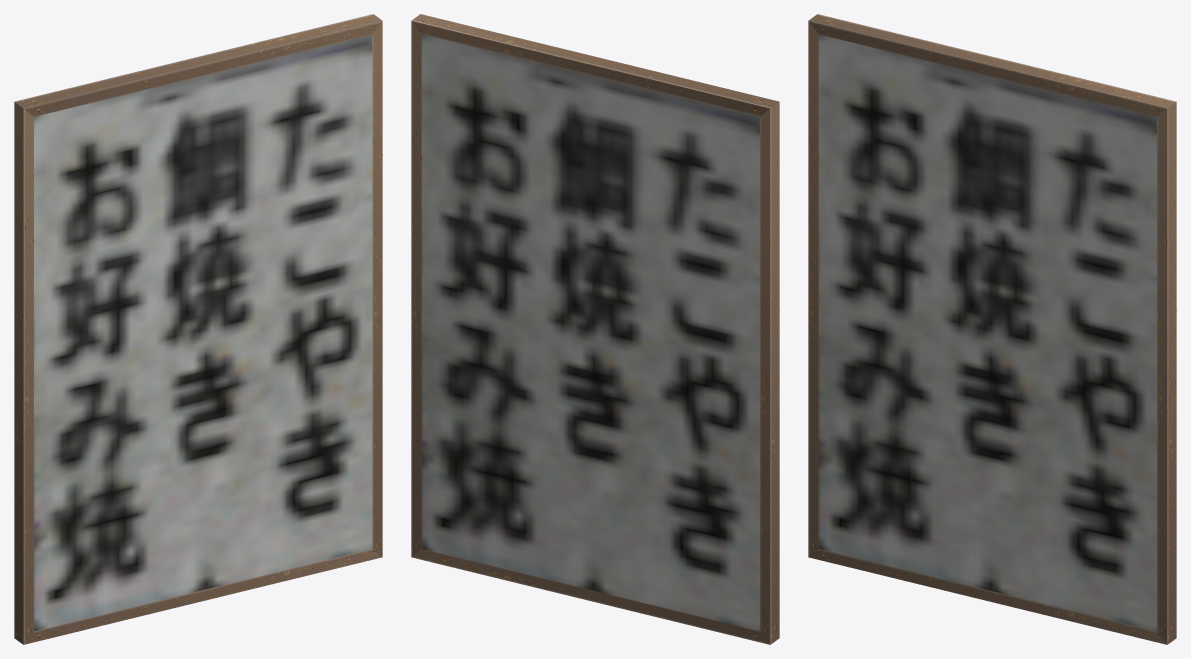
Rendered from shopboard05f.fbx.
The picture shows the model from 3 angles, left to right: view 1: azimuth 30°, elevation 25°; view 2: azimuth 150°, elevation 25°; view 3: azimuth 330°, elevation 25°; orthographic projection.
Visible parts, largest first — view 1: shopboard05f; view 2: shopboard05f; view 3: shopboard05f.
Boxes of the visible parts, x1,y1,x2,y2 form: shopboard05f: (14,14,382,644); shopboard05f: (411,14,779,644); shopboard05f: (808,14,1176,644).
Bounding box in the file's own units: 55.83 × 79.69 × 2.51.
